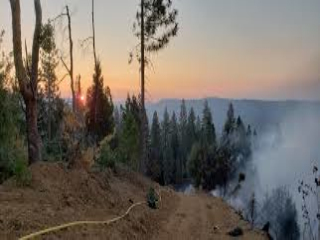smoke: (216, 97, 319, 227)
